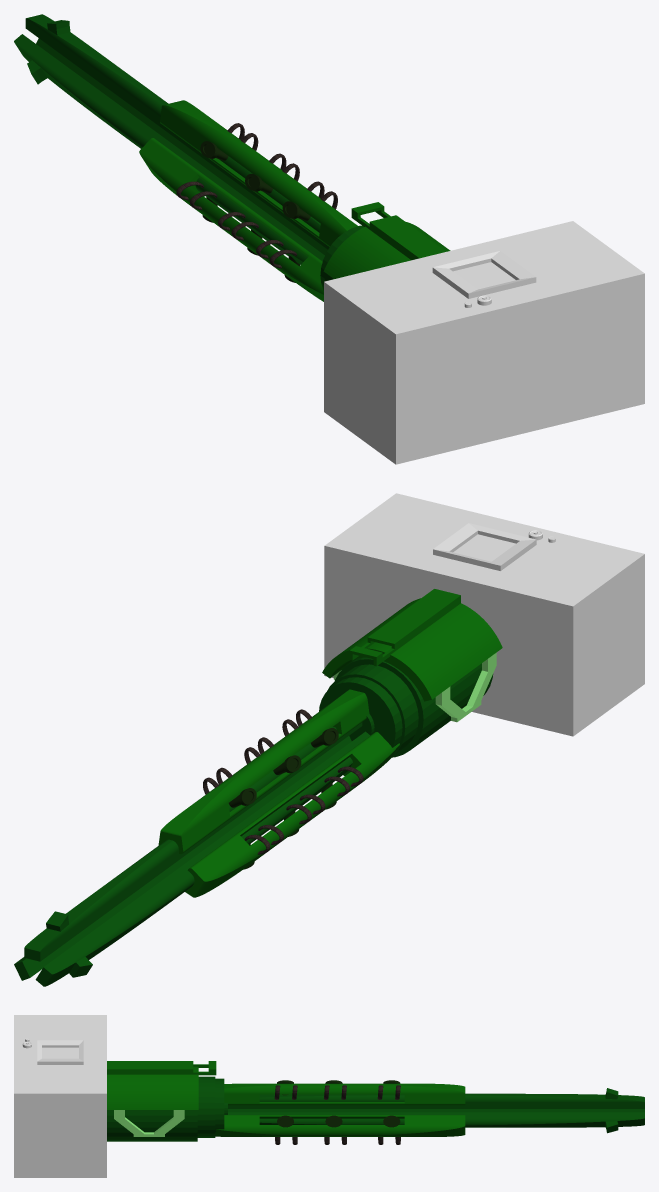
Rendered from elsupercanondelonflis.fbx.
The picture shows the model from 3 angles, top to bottom: view 1: azimuth 30°, elevation 25°; view 2: azimuth 150°, elevation 25°; view 3: azimuth 270°, elevation 25°; orthographic projection. The views are drawn at different scales.
Visible parts, largest first — view 1: Cube, movible 3, cubridor.001, movible 1, cubridor.002, cubridor, movible 2, mira 1, cables.001, pistones, cables; view 2: Cube, movible 3, Cylinder, cubridor.001, cubridor, cubridor.002, movible 1, movible 2, mira 1, patilla 2, cables.001, pistones (+1 smaller); view 3: Cube, movible 1, cubridor.003, movible 2, cubridor.001, Cylinder, cubridor, movible 3, mira 1, patilla 1, pistones.002, cables (+1 smaller).
Boxes of the visible parts, bbox=[...] form: Cube: bbox=[324, 221, 644, 464]; movible 3: bbox=[14, 34, 324, 264]; cubridor.001: bbox=[160, 100, 357, 246]; movible 1: bbox=[25, 14, 329, 249]; cubridor.002: bbox=[139, 138, 323, 301]; cubridor: bbox=[323, 221, 450, 278]; movible 2: bbox=[36, 38, 327, 254]; mira 1: bbox=[351, 202, 445, 260]; cables.001: bbox=[176, 181, 296, 268]; pistones: bbox=[200, 141, 310, 220]; cables: bbox=[227, 123, 337, 209]; Cube: bbox=[324, 493, 644, 736]; movible 3: bbox=[35, 731, 370, 986]; Cylinder: bbox=[319, 657, 493, 757]; cubridor.001: bbox=[158, 689, 369, 853]; cubridor: bbox=[322, 598, 502, 701]; cubridor.002: bbox=[185, 732, 399, 897]; movible 1: bbox=[24, 722, 362, 961]; movible 2: bbox=[14, 736, 351, 980]; mira 1: bbox=[349, 589, 460, 666]; patilla 2: bbox=[435, 652, 496, 722]; cables.001: bbox=[244, 766, 363, 854]; pistones: bbox=[228, 728, 338, 807]; Cube: bbox=[14, 1015, 106, 1177]; movible 1: bbox=[228, 1088, 644, 1108]; cubridor.003: bbox=[215, 1115, 465, 1136]; movible 2: bbox=[228, 1112, 644, 1133]; cubridor.001: bbox=[224, 1083, 465, 1105]; Cylinder: bbox=[107, 1076, 227, 1141]; cubridor: bbox=[107, 1066, 198, 1109]; movible 3: bbox=[228, 1109, 644, 1112]; mira 1: bbox=[107, 1061, 216, 1075]; patilla 1: bbox=[114, 1110, 184, 1136]; pistones.002: bbox=[277, 1115, 400, 1127]; cables: bbox=[274, 1085, 400, 1099].
Bounding box in the file's own units: 400 × 208 × 1357.
